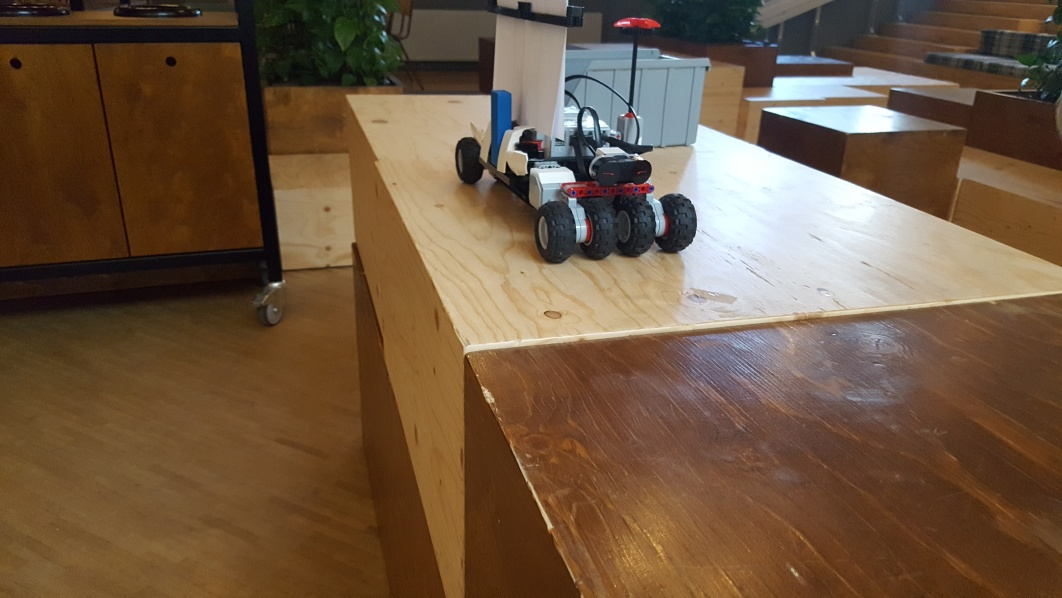car: (450, 1, 700, 264)
